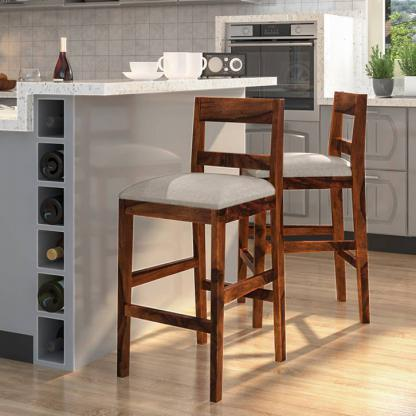chair: (107, 98, 287, 399), (286, 65, 383, 329)
table: (0, 73, 266, 376)
